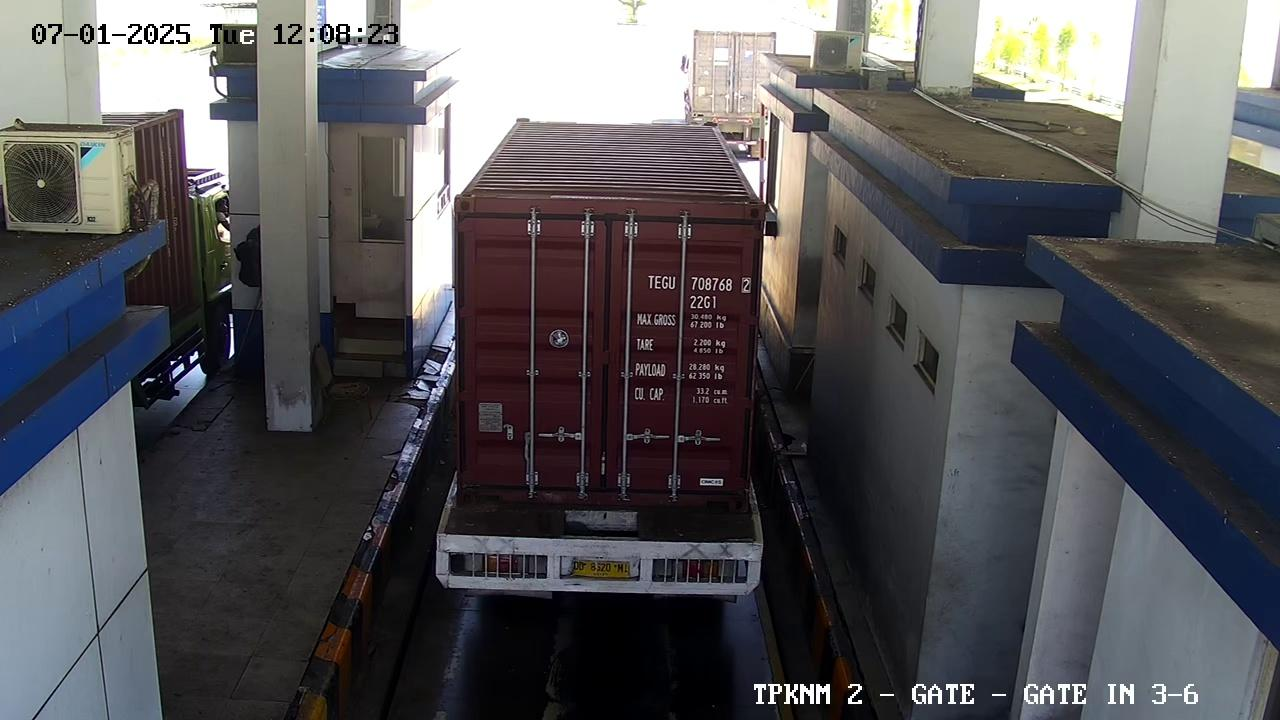Container_ID: (644, 270, 752, 293)
plate_number: (564, 555, 635, 590)
